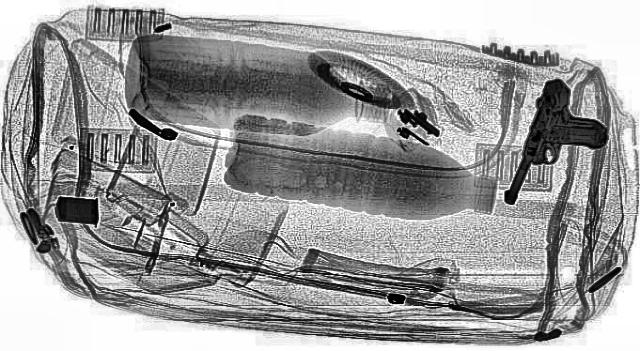Gun: (494, 76, 628, 210)
